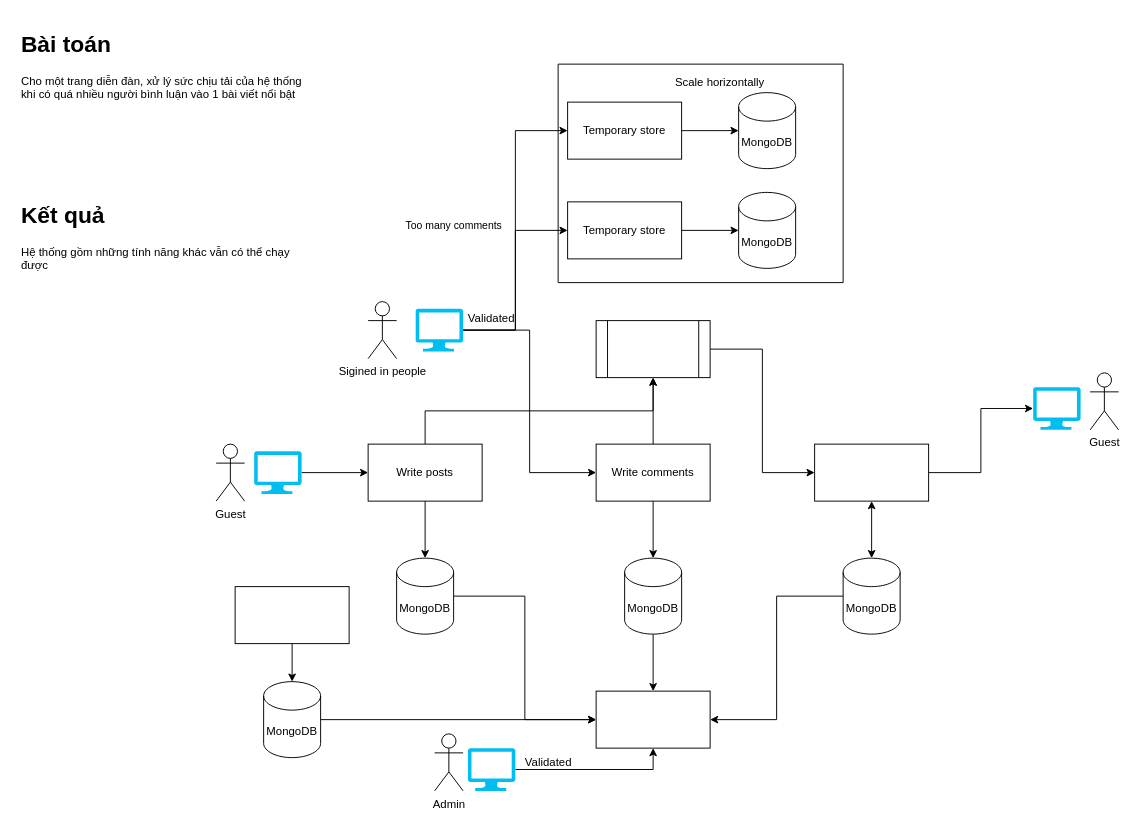
This 1135x827 diagram has some shape labels left out. The centre of each missing label's shape, as x and y in pixels:
Communicate interface: (x=652, y=349)
Create account/ Send token: (x=291, y=615)
Manage data: (x=652, y=719)
Read post and comment: (x=871, y=472)
